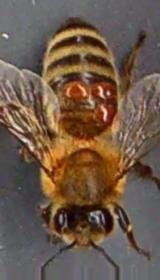varroa_mite: (81, 86, 120, 127), (81, 69, 125, 105), (55, 73, 97, 104)
